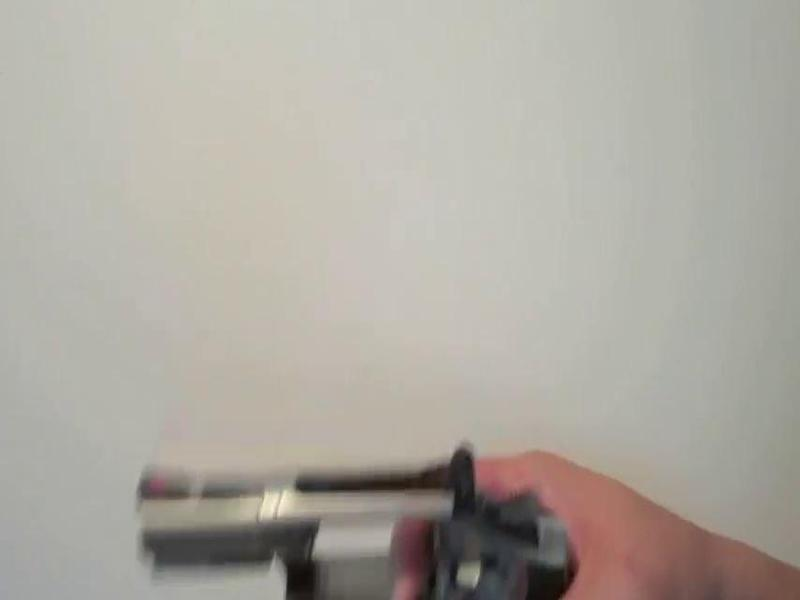Revolver: (97, 415, 629, 600)
